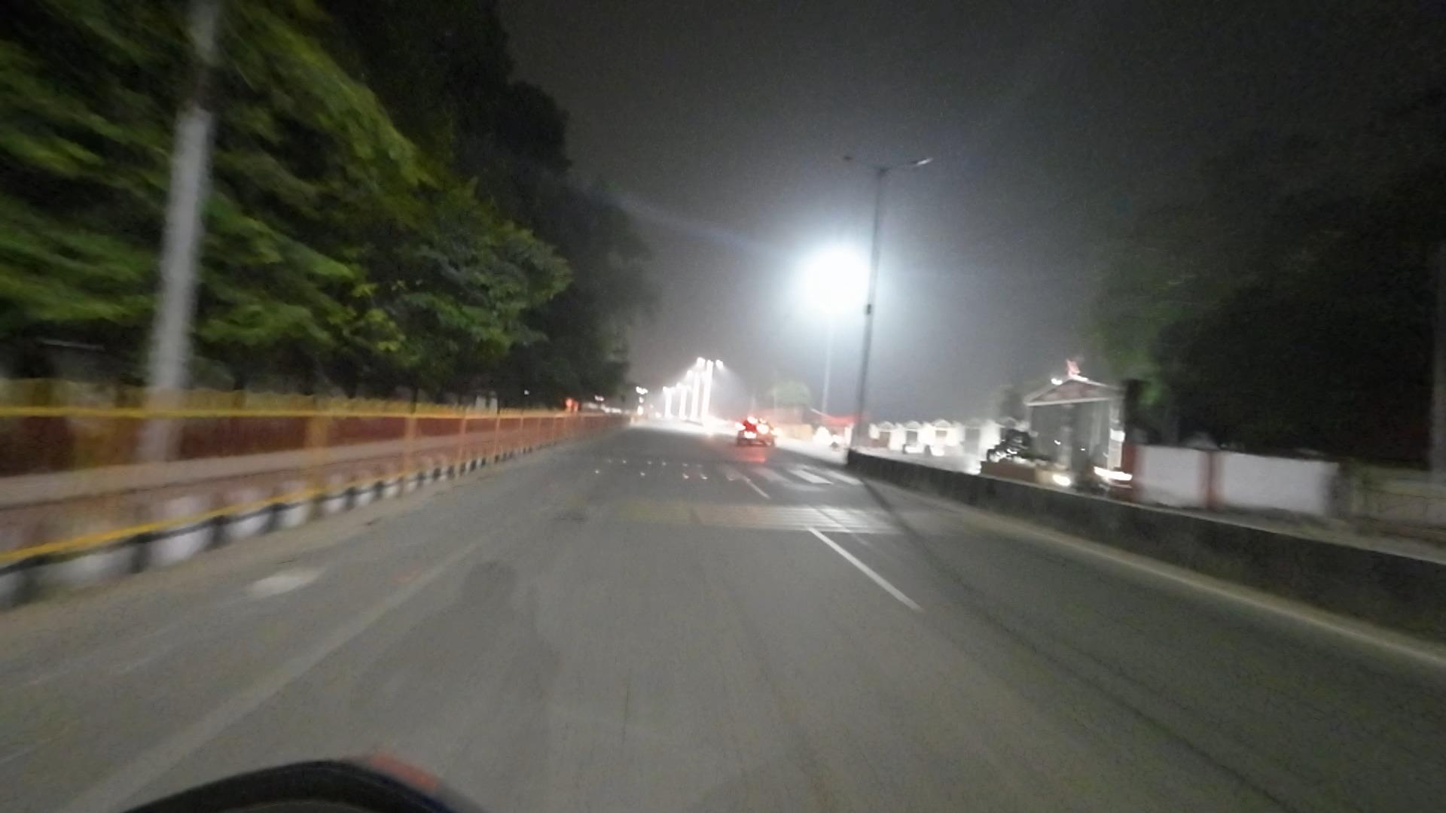streetlight: (835, 151, 876, 170), (889, 155, 936, 171)
